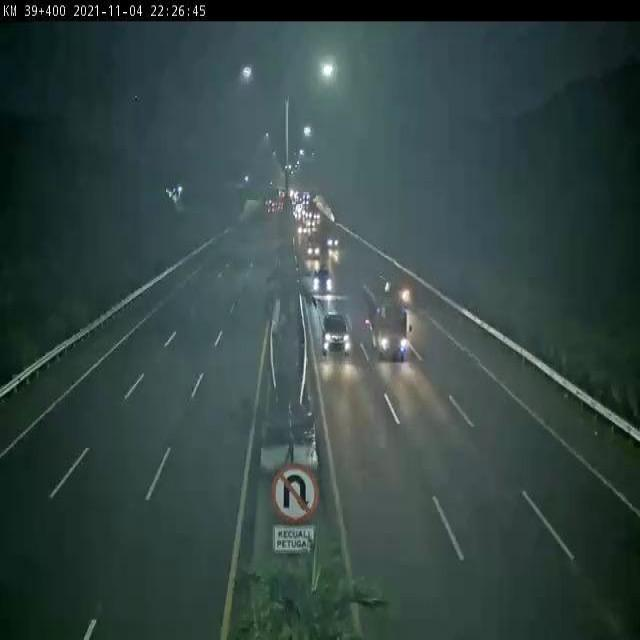bus-s-: (365, 284, 413, 360)
car: (322, 312, 351, 359)
